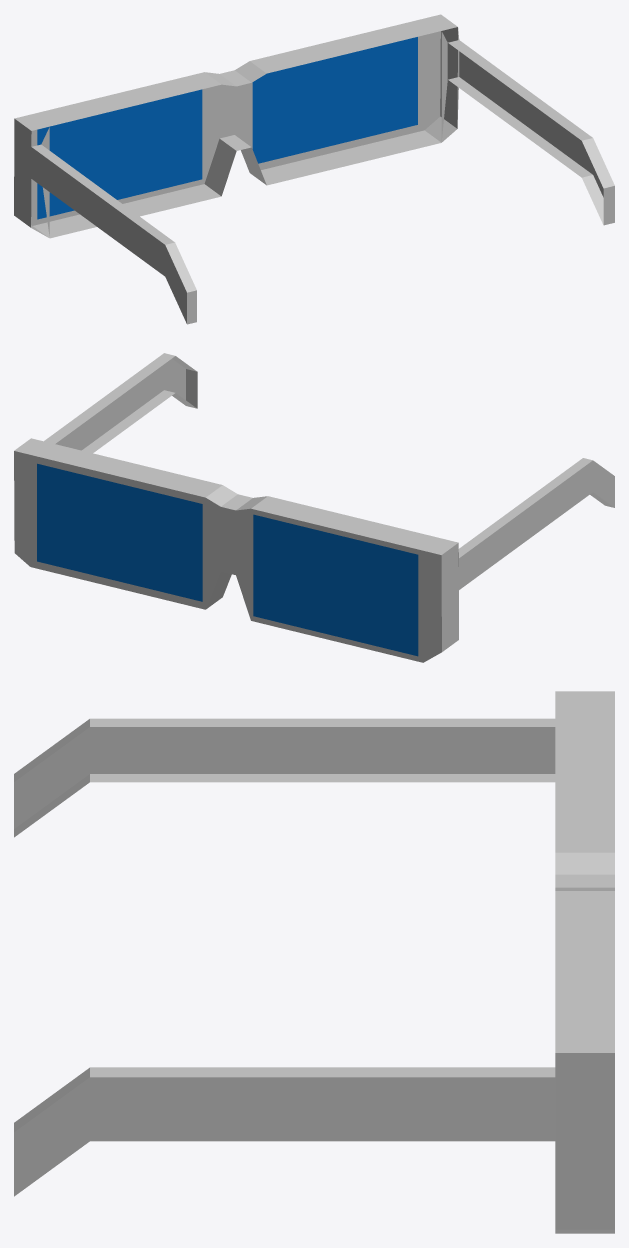
File: sunglass.obj
3 views of the same model, one above another, from view 1: azimuth 30°, elevation 25°; view 2: azimuth 150°, elevation 25°; view 3: azimuth 270°, elevation 25° (orthographic). The views are drawn at different scales.
Visible parts, largest first — view 1: Cube_Cube.001; view 2: Cube_Cube.001; view 3: Cube_Cube.001.
Boxes of the visible parts, bbox=[...] form: Cube_Cube.001: bbox=[14, 14, 614, 324]; Cube_Cube.001: bbox=[14, 353, 614, 662]; Cube_Cube.001: bbox=[14, 691, 614, 1233].
Bounding box in the file's own units: 0.4599 × 0.1149 × 0.3216.
